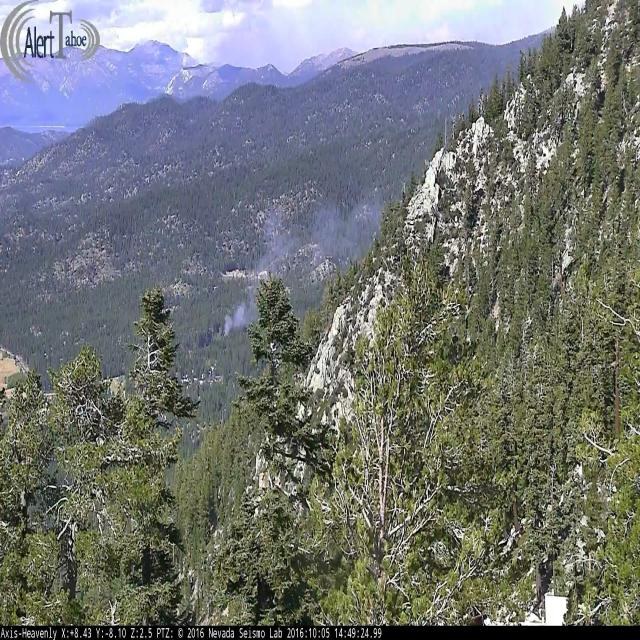smoke: (254, 190, 379, 284), (221, 302, 258, 338)
